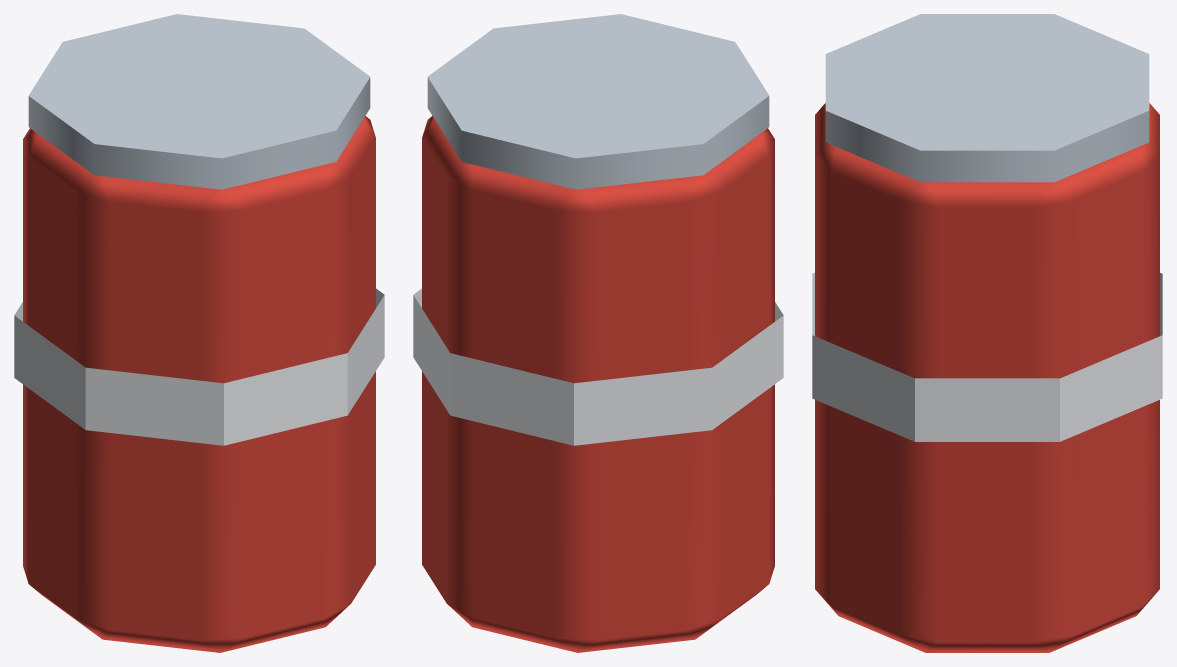
Rendered from CM_Product_SodaCan.fbx.
3 renders of one model, left to right at view 1: azimuth 30°, elevation 25°; view 2: azimuth 150°, elevation 25°; view 3: azimuth 270°, elevation 25°, orthographic.
Visible parts, largest first — view 1: SodaCan; view 2: SodaCan; view 3: SodaCan.
Part boxes in pixels (<box>): SodaCan: <box>14,14,384,652</box>; SodaCan: <box>413,14,783,652</box>; SodaCan: <box>812,14,1162,652</box>.
Size of the model in its own units: 0.6005 by 0.6005 by 0.96.
Materials: 1 (1 with a texture image).
